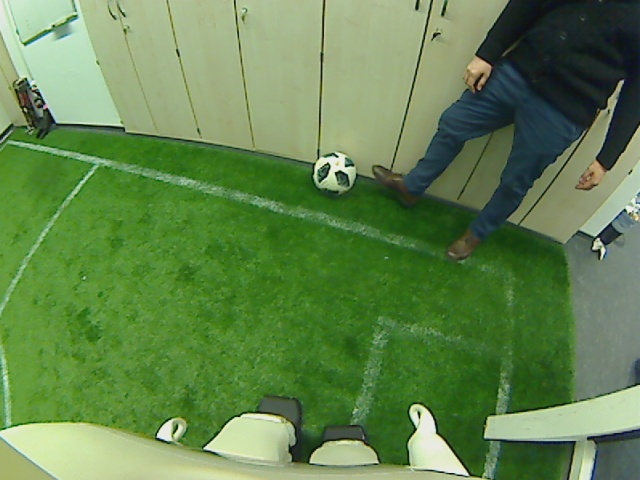ball: (312, 149, 356, 193)
